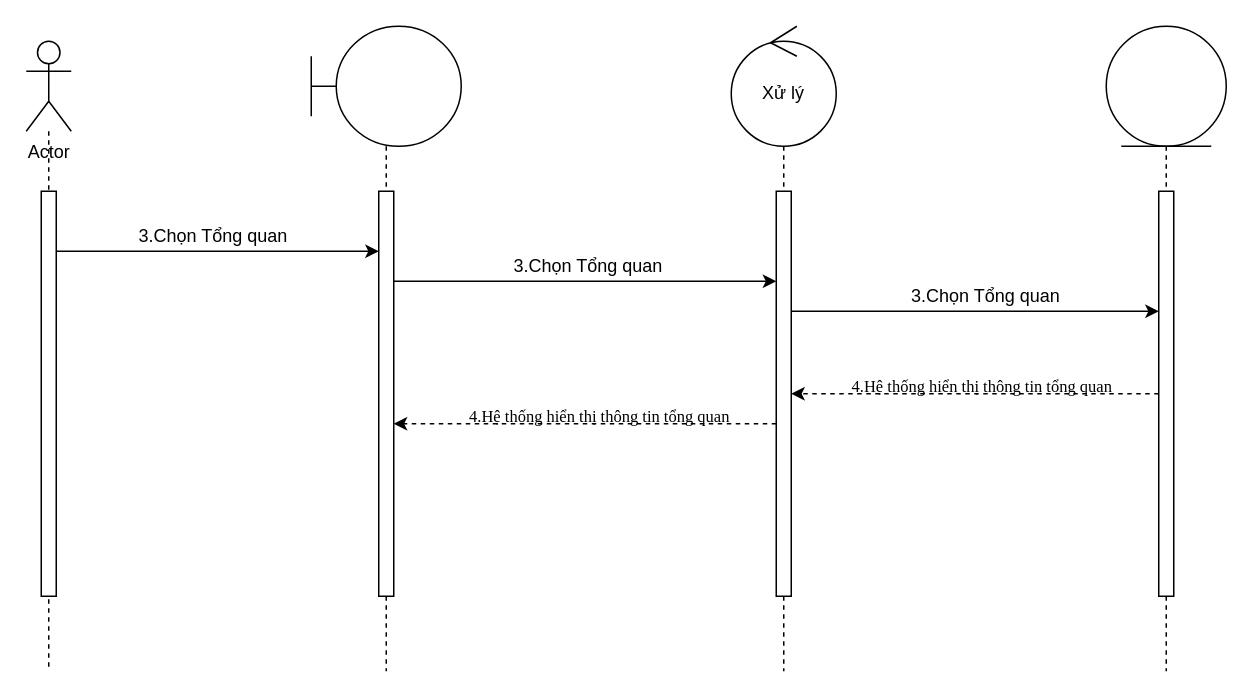
Some shapes in this 1253 by 699 pixel diagram are drawn without their labels. The shapes that lost their labels are listed below. From the top down, each one's box as (x1, y1, x2, y2) in pixels, then its label:
(310, 25, 461, 146): Thống kê tổng quan
(1105, 25, 1226, 146): Database
